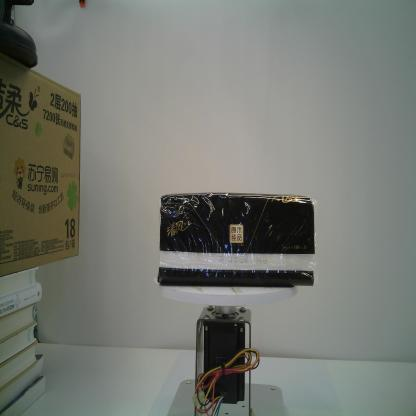Tissue: (156, 192, 315, 290)
